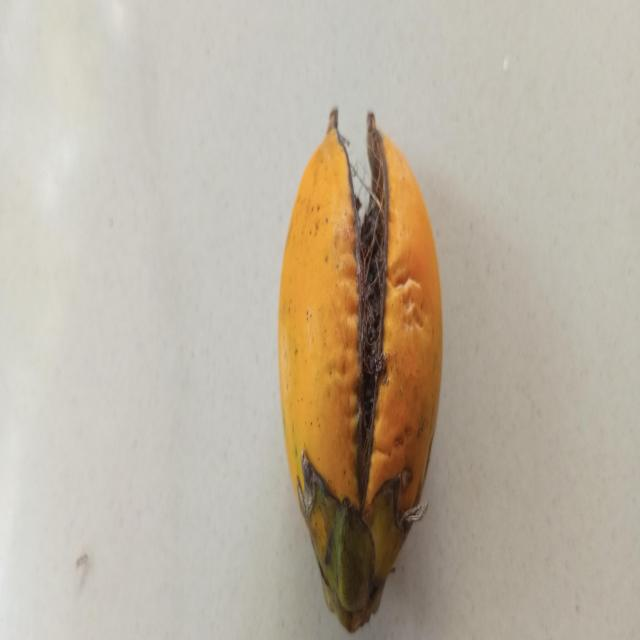damaged: (278, 108, 442, 632)
